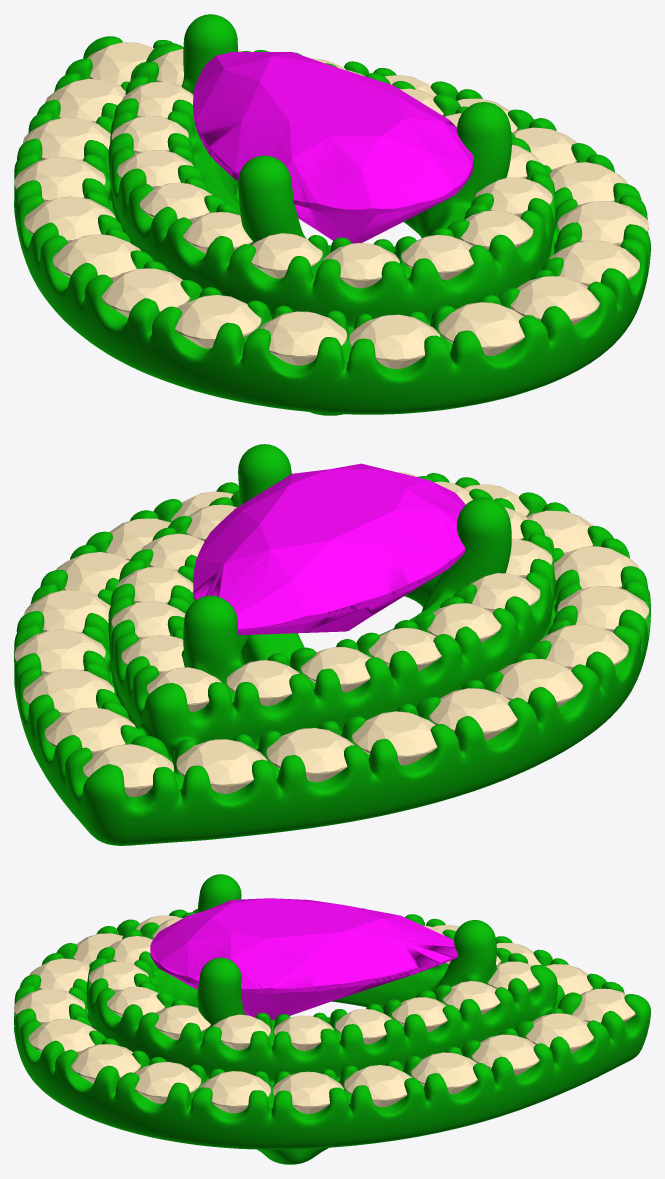
3 renders of one model, top to bottom at view 1: azimuth 30°, elevation 25°; view 2: azimuth 150°, elevation 25°; view 3: azimuth 270°, elevation 25°, orthographic. The views are drawn at different scales.
Parts seen in each view (by area): view 1: Metal01, Diamond_Pear, Diamond_Round.010, Diamond_Round.009, Diamond_Round, Diamond_Round.008, Diamond_Round.011, Diamond_Round.007, Diamond_Round.006, Diamond_Round.012, Diamond_Round.005, Diamond_Round.013 (+18 smaller); view 2: Metal01, Diamond_Pear, Diamond_Round.002, Diamond_Round.003, Diamond_Round.004, Diamond_Round.005, Diamond_Round.006, Diamond_Round.019, Diamond_Round.007, Diamond_Round.018, Diamond_Round.017, Diamond_Round.008 (+20 smaller); view 3: Metal01, Diamond_Pear, Diamond_Round.014, Diamond_Round.015, Diamond_Round.016, Diamond_Round.013, Diamond_Round.017, Diamond_Round.019, Diamond_Round.018, Diamond_Round.012, Diamond_Round.011, Diamond_Round (+14 smaller).
Part boxes in pixels (box(x1,y1,x2,y2)): Metal01: box(14, 14, 650, 415); Diamond_Pear: box(193, 52, 473, 243); Diamond_Round.010: box(349, 314, 440, 368); Diamond_Round.009: box(259, 311, 346, 365); Diamond_Round: box(438, 302, 524, 355); Diamond_Round.008: box(175, 295, 261, 348); Diamond_Round.011: box(510, 276, 599, 325); Diamond_Round.007: box(101, 268, 190, 317); Diamond_Round.006: box(52, 234, 140, 279); Diamond_Round.012: box(549, 240, 639, 286); Diamond_Round.005: box(24, 196, 115, 243); Diamond_Round.013: box(557, 201, 648, 246); Metal01: box(14, 444, 650, 845); Diamond_Pear: box(193, 463, 465, 635); Diamond_Round.002: box(176, 739, 266, 793); Diamond_Round.003: box(266, 728, 354, 782); Diamond_Round.004: box(352, 711, 437, 765); Diamond_Round.005: box(429, 688, 517, 740); Diamond_Round.006: box(495, 659, 582, 707); Diamond_Round.019: box(45, 707, 135, 755); Diamond_Round.007: box(539, 624, 628, 669); Diamond_Round.018: box(23, 669, 114, 715); Diamond_Round.017: box(14, 629, 105, 674); Diamond_Round.008: box(557, 586, 648, 632); Metal01: box(14, 874, 650, 1164); Diamond_Pear: box(150, 898, 458, 1019); Diamond_Round.014: box(200, 1071, 270, 1113); Diamond_Round.015: box(272, 1071, 343, 1113); Diamond_Round.016: box(344, 1065, 412, 1107); Diamond_Round.013: box(135, 1062, 201, 1103); Diamond_Round.017: box(411, 1052, 477, 1094); Diamond_Round.019: box(525, 1013, 593, 1053); Diamond_Round.018: box(471, 1034, 539, 1075); Diamond_Round.012: box(71, 1044, 140, 1083); Diamond_Round.011: box(28, 1018, 97, 1053); Diamond_Round: box(14, 988, 84, 1025).
Bounding box in the file's own units: 10.59 × 5.97 × 14.33.
